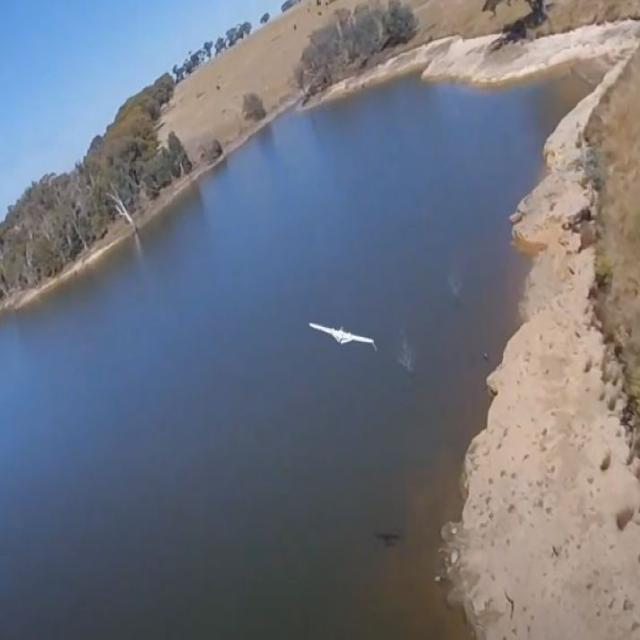iha: (341, 319, 344, 346)
